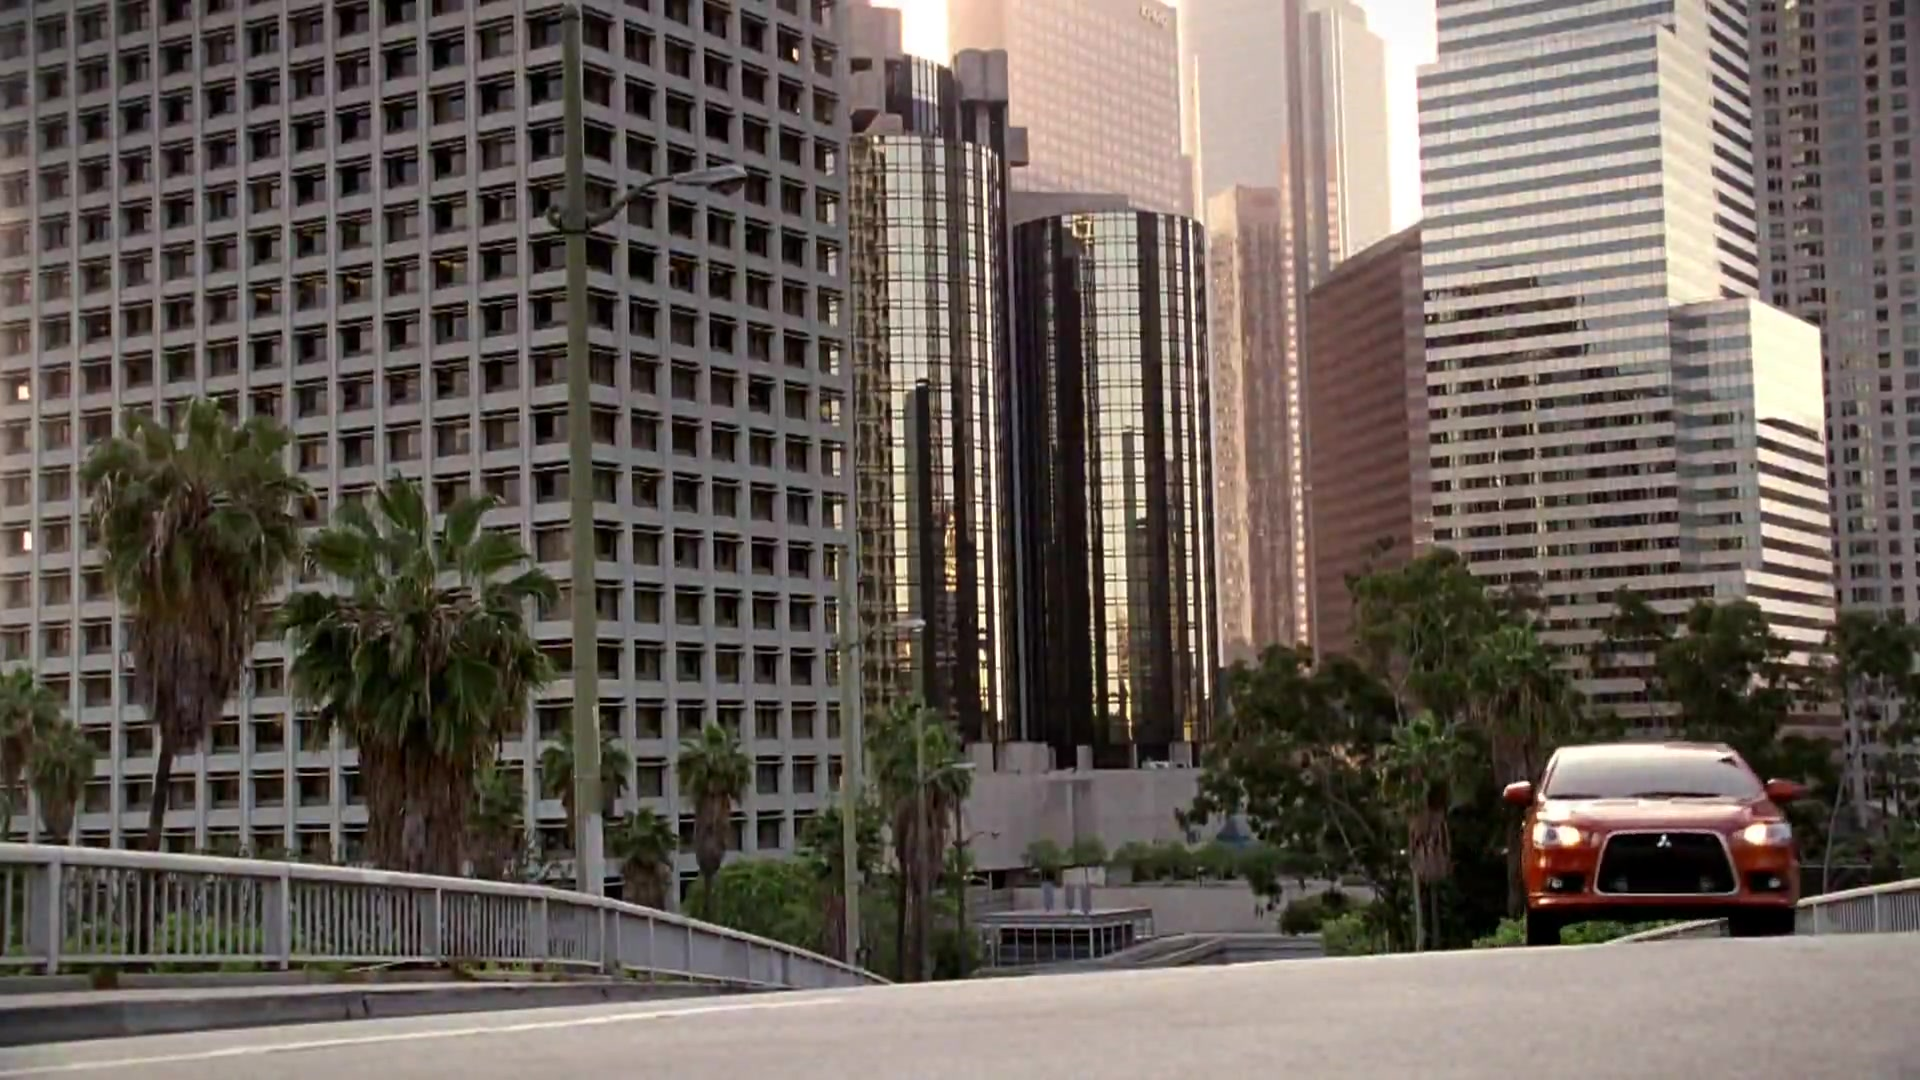car: (1501, 727, 1811, 940)
